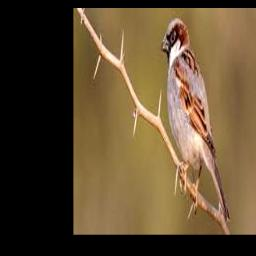Sparrow: (161, 17, 230, 224)
